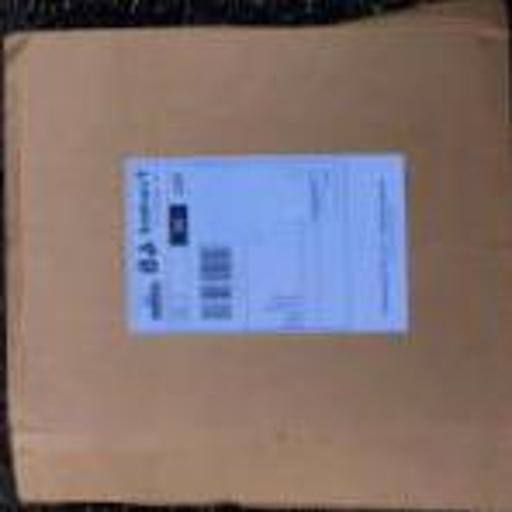Other: (8, 30, 512, 505)
